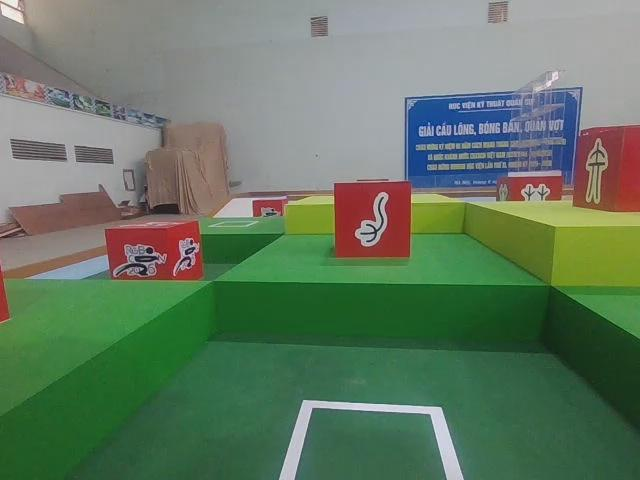R1: (103, 215, 205, 292)
R2 Fake: (570, 122, 640, 214)
R2 Real: (331, 178, 413, 262)
